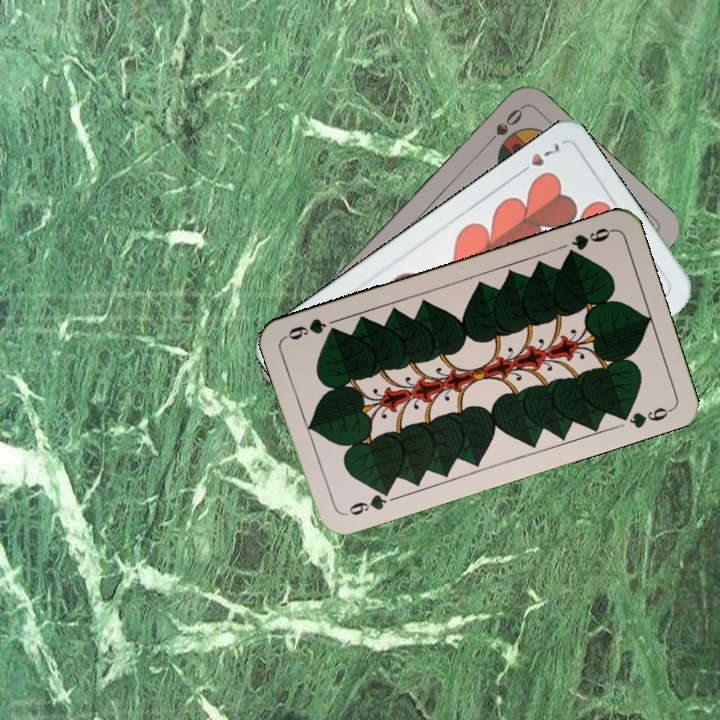G9: (340, 484, 398, 519), (562, 224, 616, 260)
H7: (512, 139, 562, 178)
SO: (479, 104, 526, 152)
